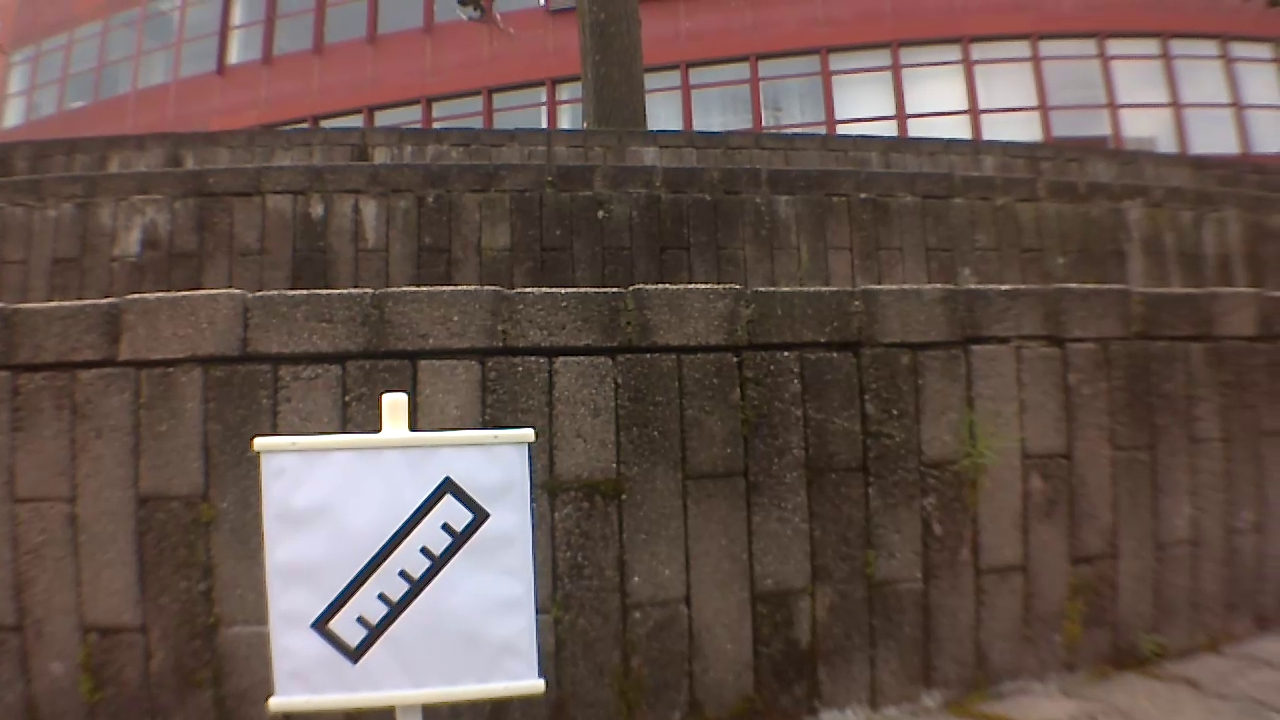ruler: (303, 474, 495, 674)
